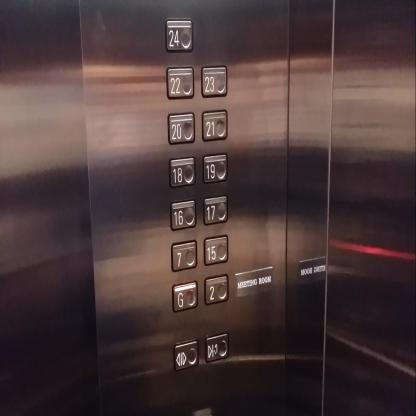15: (203, 232, 229, 265)
16: (170, 199, 196, 231)
17: (203, 195, 228, 225)
18: (169, 157, 195, 187)
19: (202, 152, 227, 184)
2: (203, 273, 229, 305)
20: (167, 110, 195, 145)
21: (201, 107, 228, 142)
22: (166, 64, 194, 100)
23: (200, 63, 227, 98)
24: (165, 18, 193, 52)
7: (170, 238, 198, 272)
G: (172, 280, 198, 312)
close: (204, 330, 230, 362)
open: (173, 337, 199, 372)
